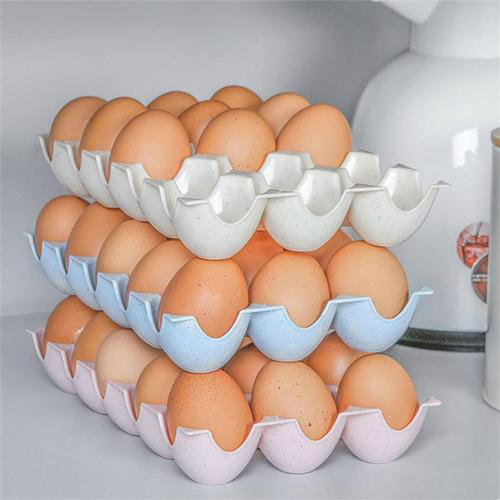egg: (43, 293, 420, 458), (32, 194, 416, 339), (46, 80, 361, 200)
